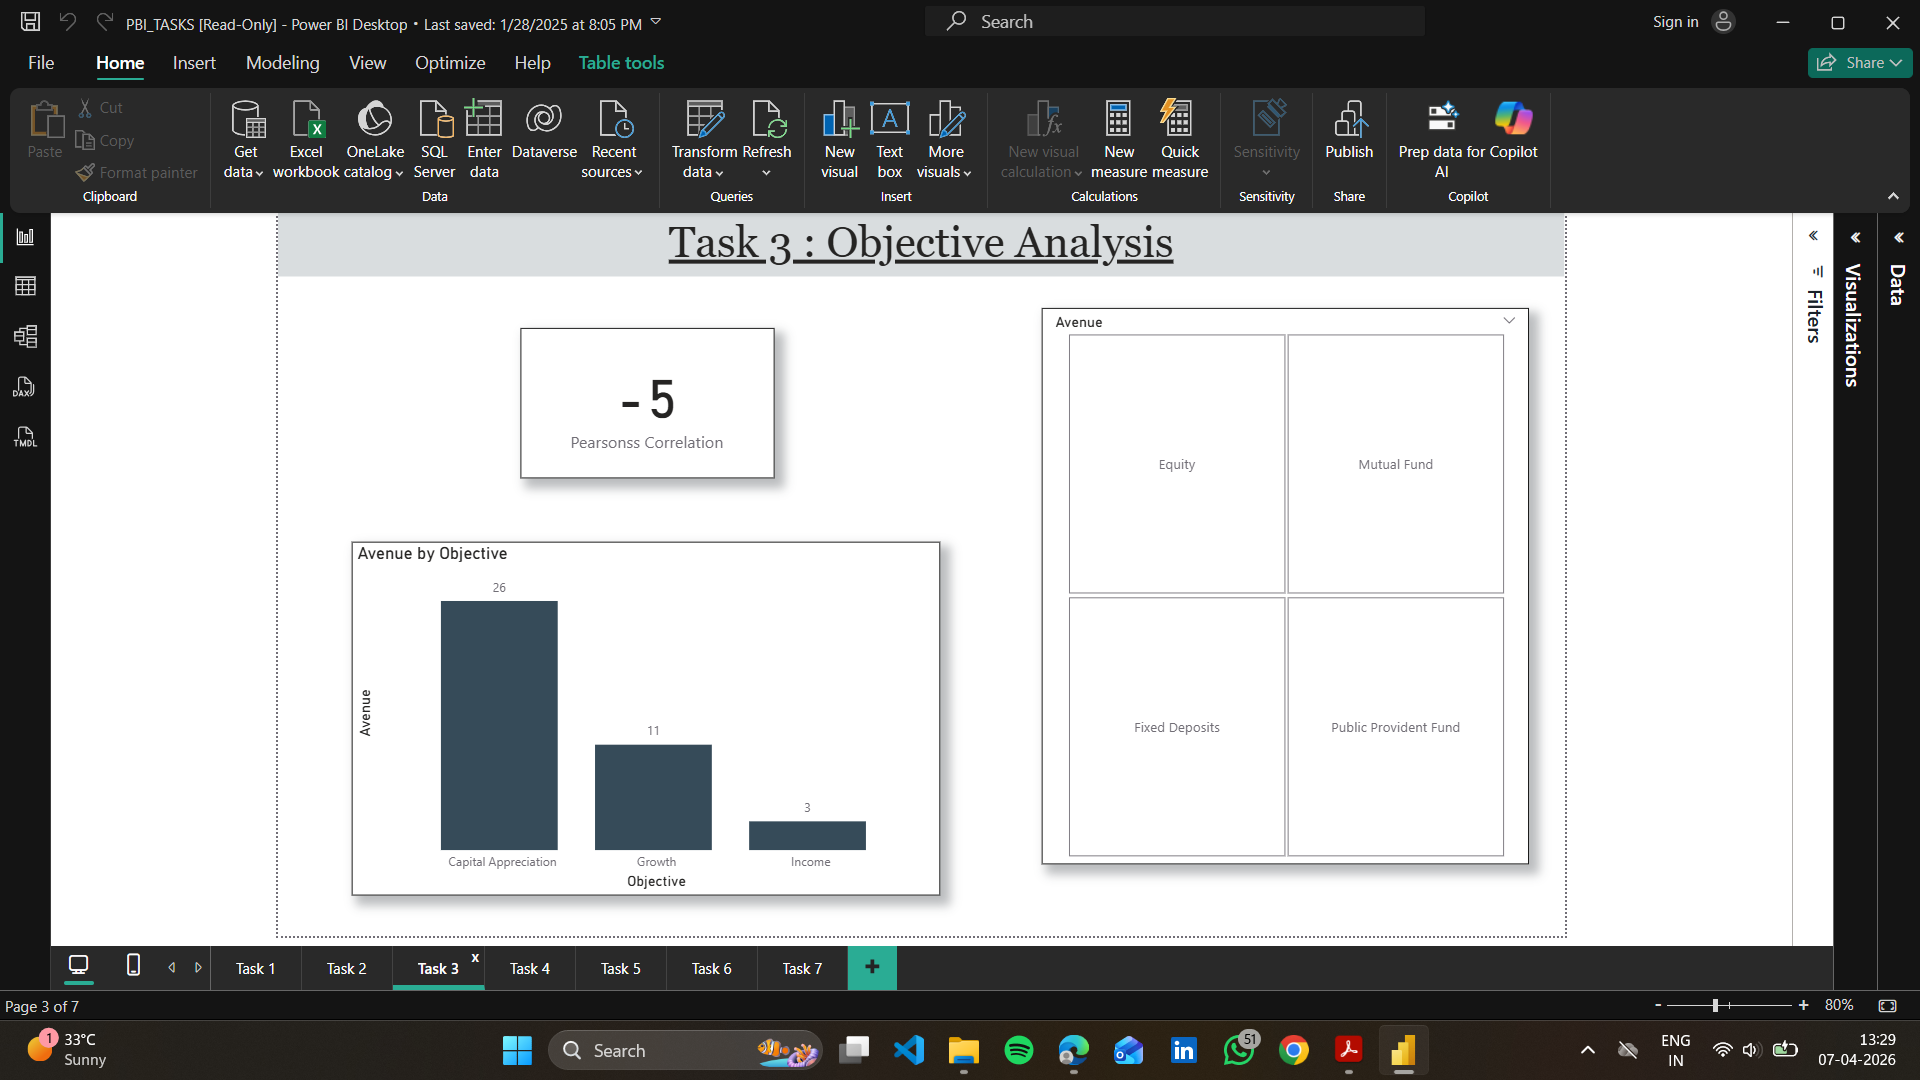

This screenshot's page, from the dashboard's own definition file:
{"tool":"powerbi","page":{"name":"Task 3","canvas":[1280,720],"ordinal":2},"visuals":[{"type":"textbox","box":[0,0,1280,63.4],"z":0},{"type":"card","fields":{"Values":["Data_set 2 (2).Pearsonss Correlation"]},"box":[241.3,114.4,252.5,149.3],"z":1000},{"type":"clusteredColumnChart","fields":{"Category":["Data_set 2 (2).Objective"],"Y":["CountNonNull(Data_set 2 (2).Avenue)"]},"box":[73.4,327.2,585.9,352],"z":2000},{"type":"slicer","fields":{"Values":["Data_set 2 (2).Avenue"]},"box":[760.1,94.5,485.1,553.6],"z":3000}]}

Visuals, with their boxes on the page's 1280x720 design canvas (x1, y1, x2, y2). These are canvas units, not pixel positions in the 1920x1080 screenshot, which may show the page scaled, cropped or inside an application window:
textbox: l=0, t=0, r=1280, b=63
card - Data_set 2 (2).Pearsonss Correlation: l=241, t=114, r=494, b=264
clusteredColumnChart - Data_set 2 (2).Objective x CountNonNull(Data_set 2 (2).Avenue): l=73, t=327, r=659, b=679
slicer - Data_set 2 (2).Avenue: l=760, t=94, r=1245, b=648
